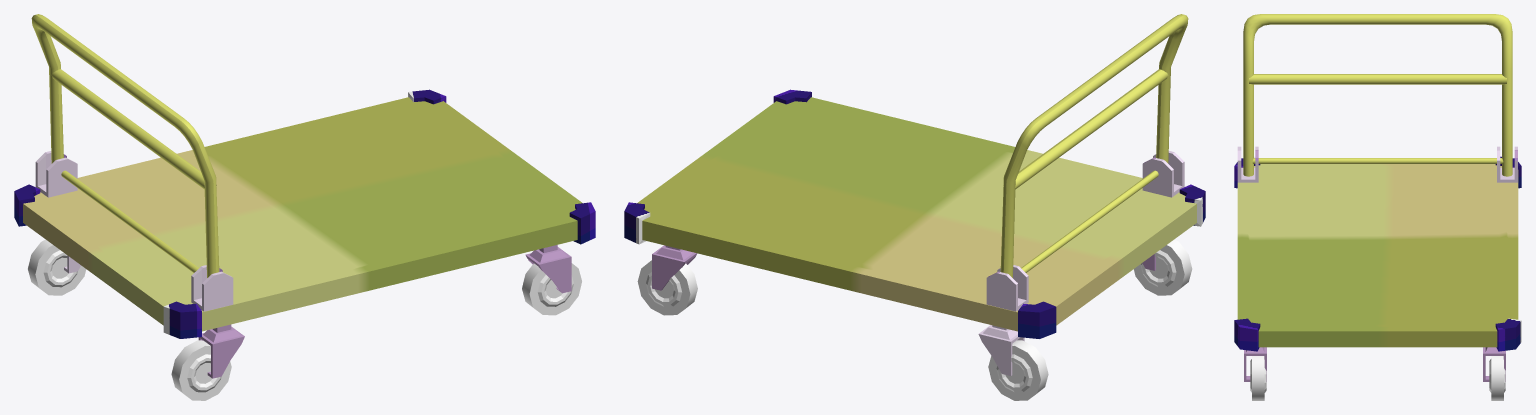
Rendered from Wagon.fbx.
3 views of the same model, side by side, from view 1: azimuth 30°, elevation 25°; view 2: azimuth 150°, elevation 25°; view 3: azimuth 270°, elevation 25° (orthographic). The views are drawn at different scales.
Parts seen in each view (by area): view 1: Wagon; view 2: Wagon; view 3: Wagon.
Part boxes in pixels (x1=…): Wagon: x1=14, y1=14, x2=595, y2=400; Wagon: x1=624, y1=14, x2=1205, y2=400; Wagon: x1=1234, y1=14, x2=1521, y2=400.
Bounding box in the file's own units: 117 × 73.75 × 81.9.
